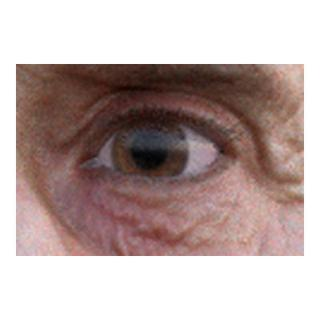pupil: (131, 134, 166, 169)
